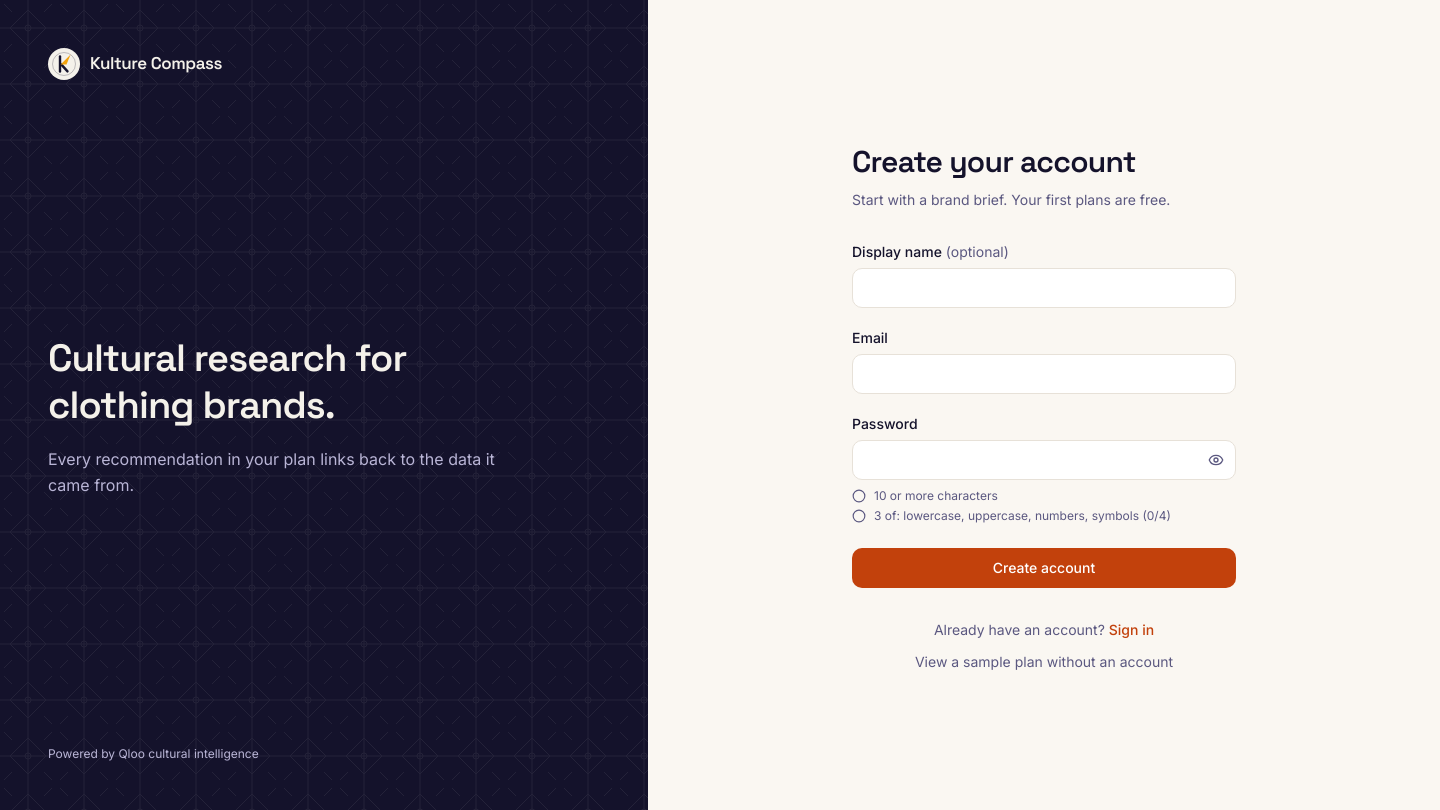
Test case: SignUpPage › puts "email taken" on the email field
This screenshot has width=1440, height=810.
Type "taken@example.com" into the field labelled "Email" at [1044, 374], box [852,354,1236,394]
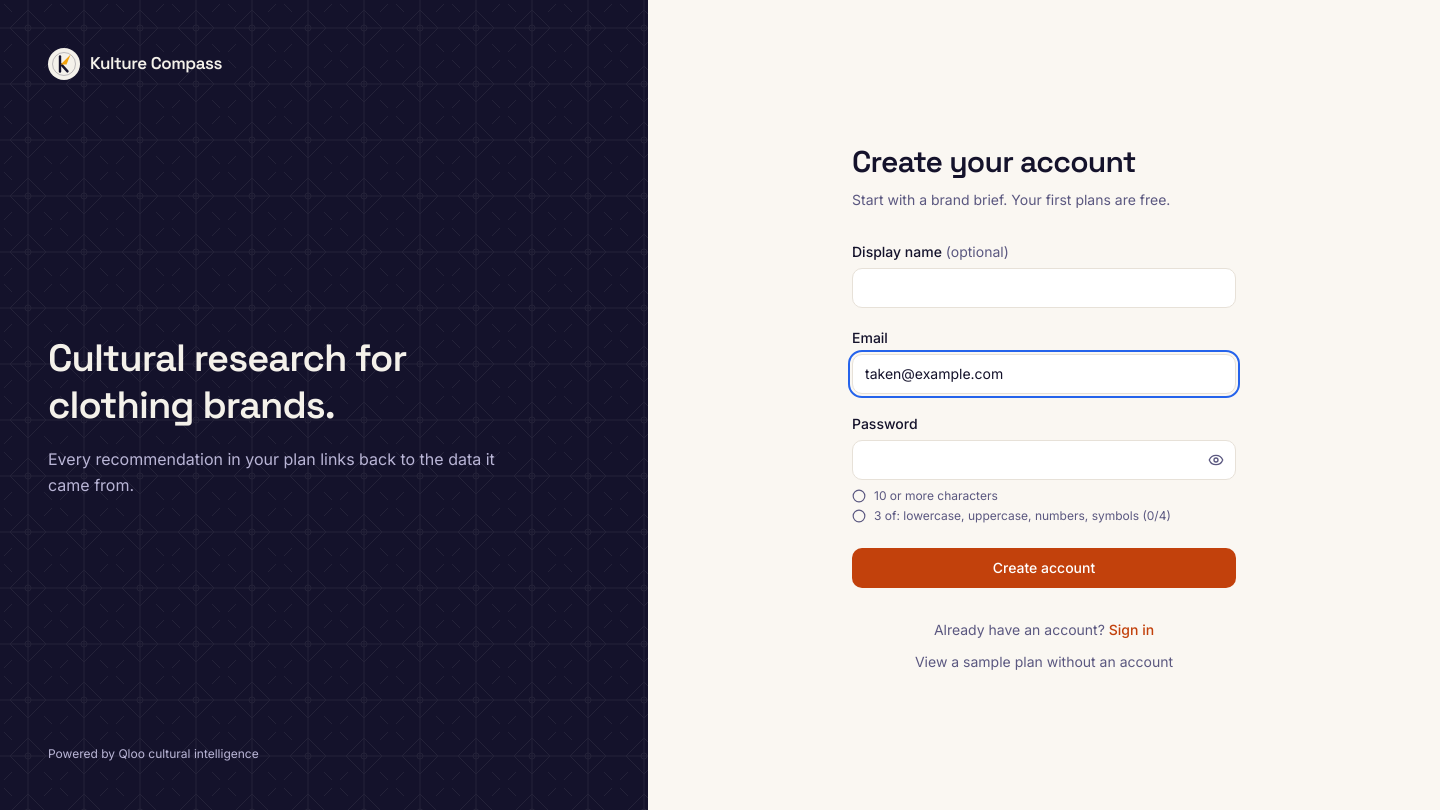
Type "Correct-horse-1" into the password field labelled "Password" at [1044, 460], box [852,440,1236,480]
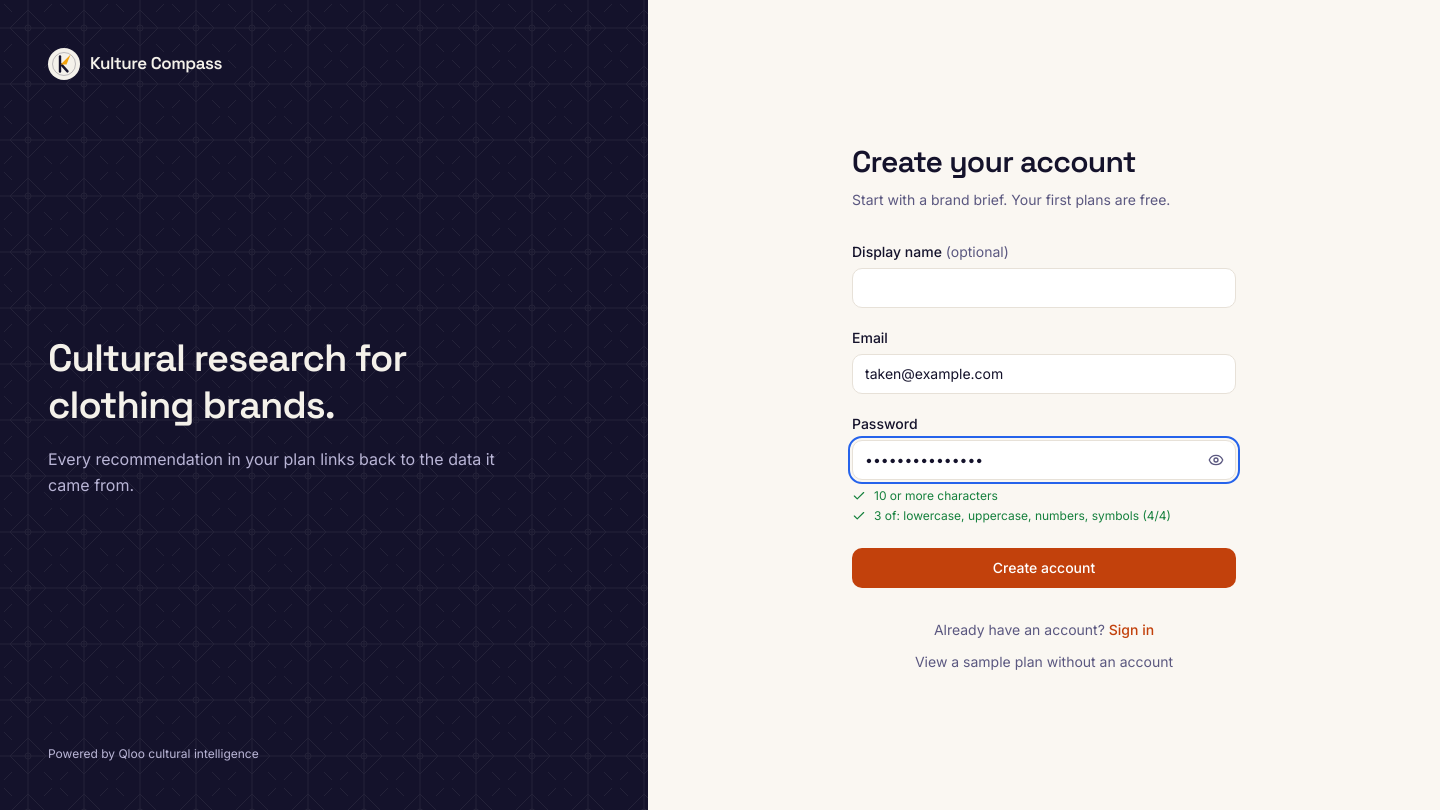
Click the button "Create account" at [1044, 568], box [852,548,1236,588]
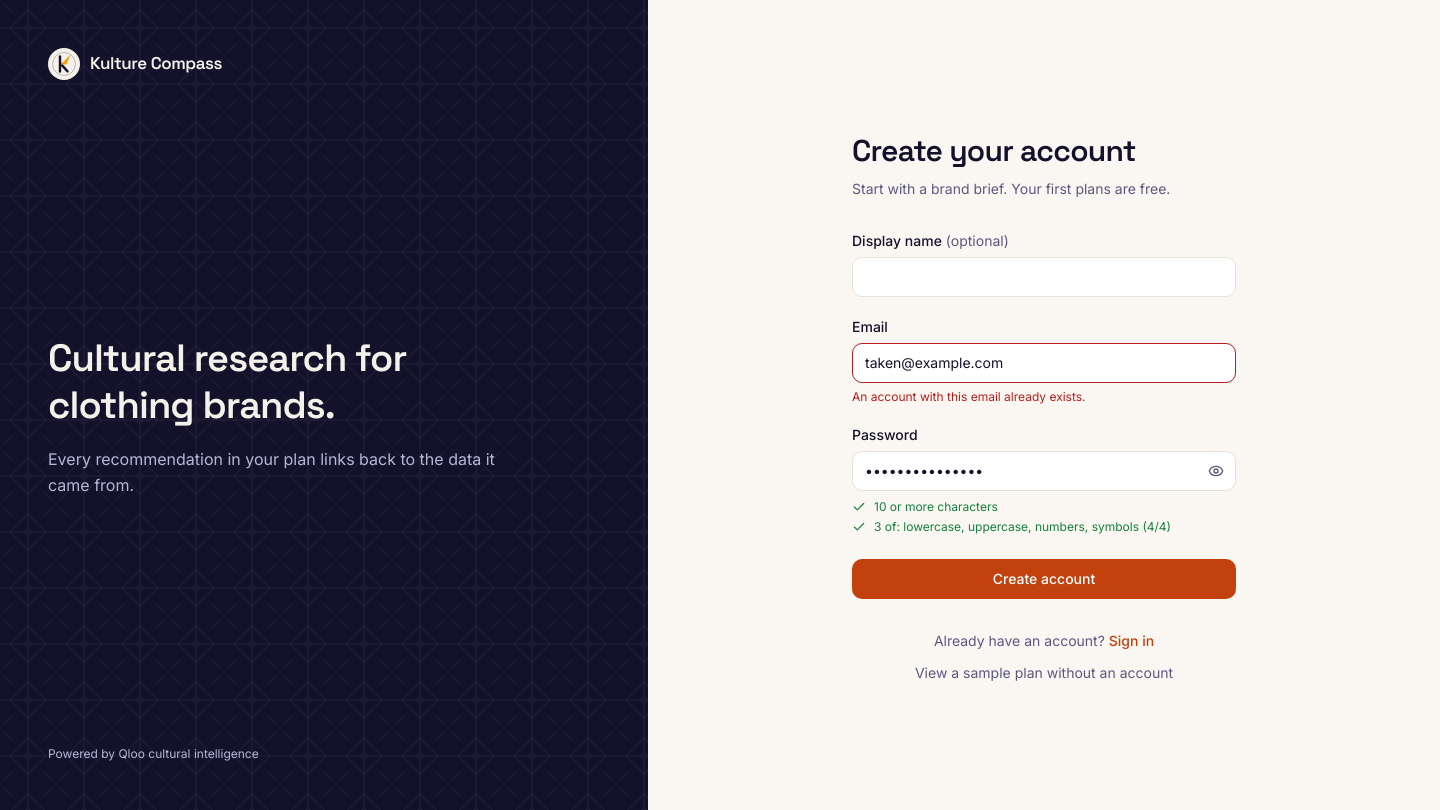
expect the text "An account with this email already exists." is shown: met, box [852,388,1086,404]
